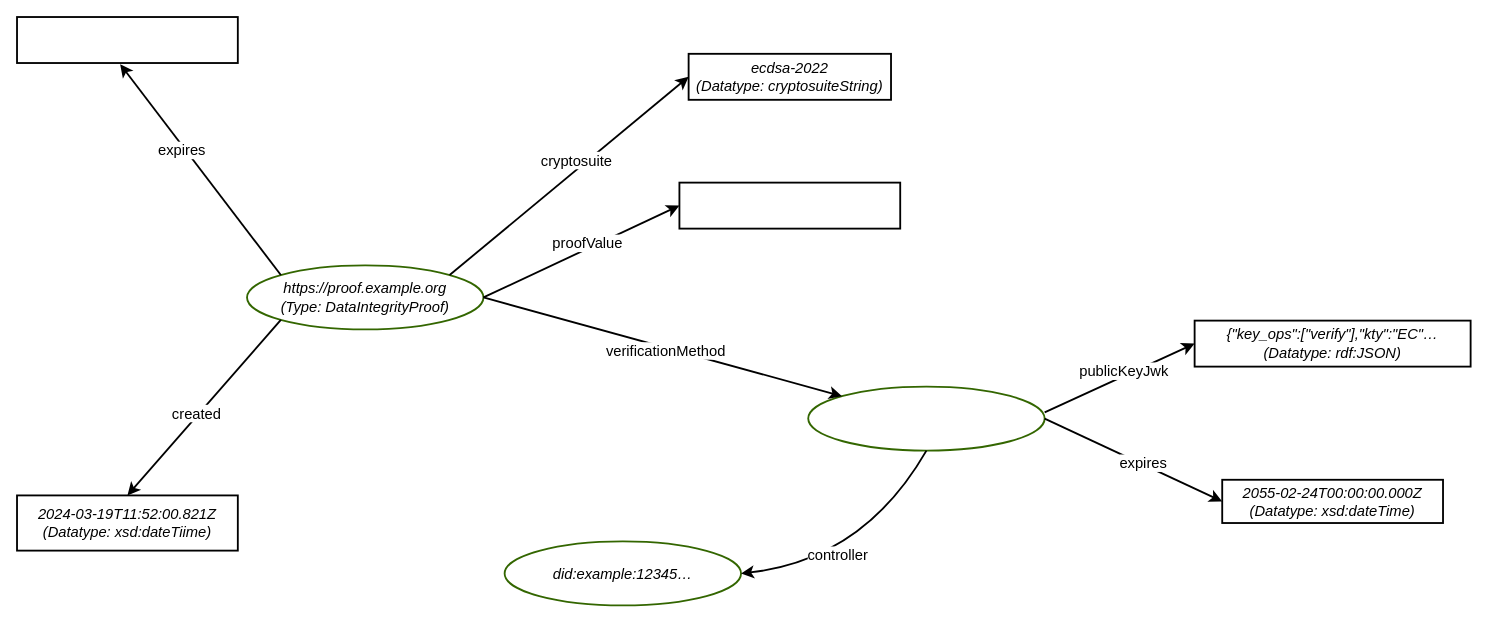
Some shapes in this 1487 by 622 pixel diagram are drawn without their labels. The shapes that lost their labels are listed below. From the top down, each one's centre as x and y in pixels, then its label:
At [127,39]: "2044-03-19T 11:52:00.821Z (Datatype: xsd:dateTime)".
At [789,205]: "ui7tvde12p6kFPzzK… (Datatype: multibase)".
At [926,418]: "urn:uuid:382c8f68… (Type: JsonWebKey)".
